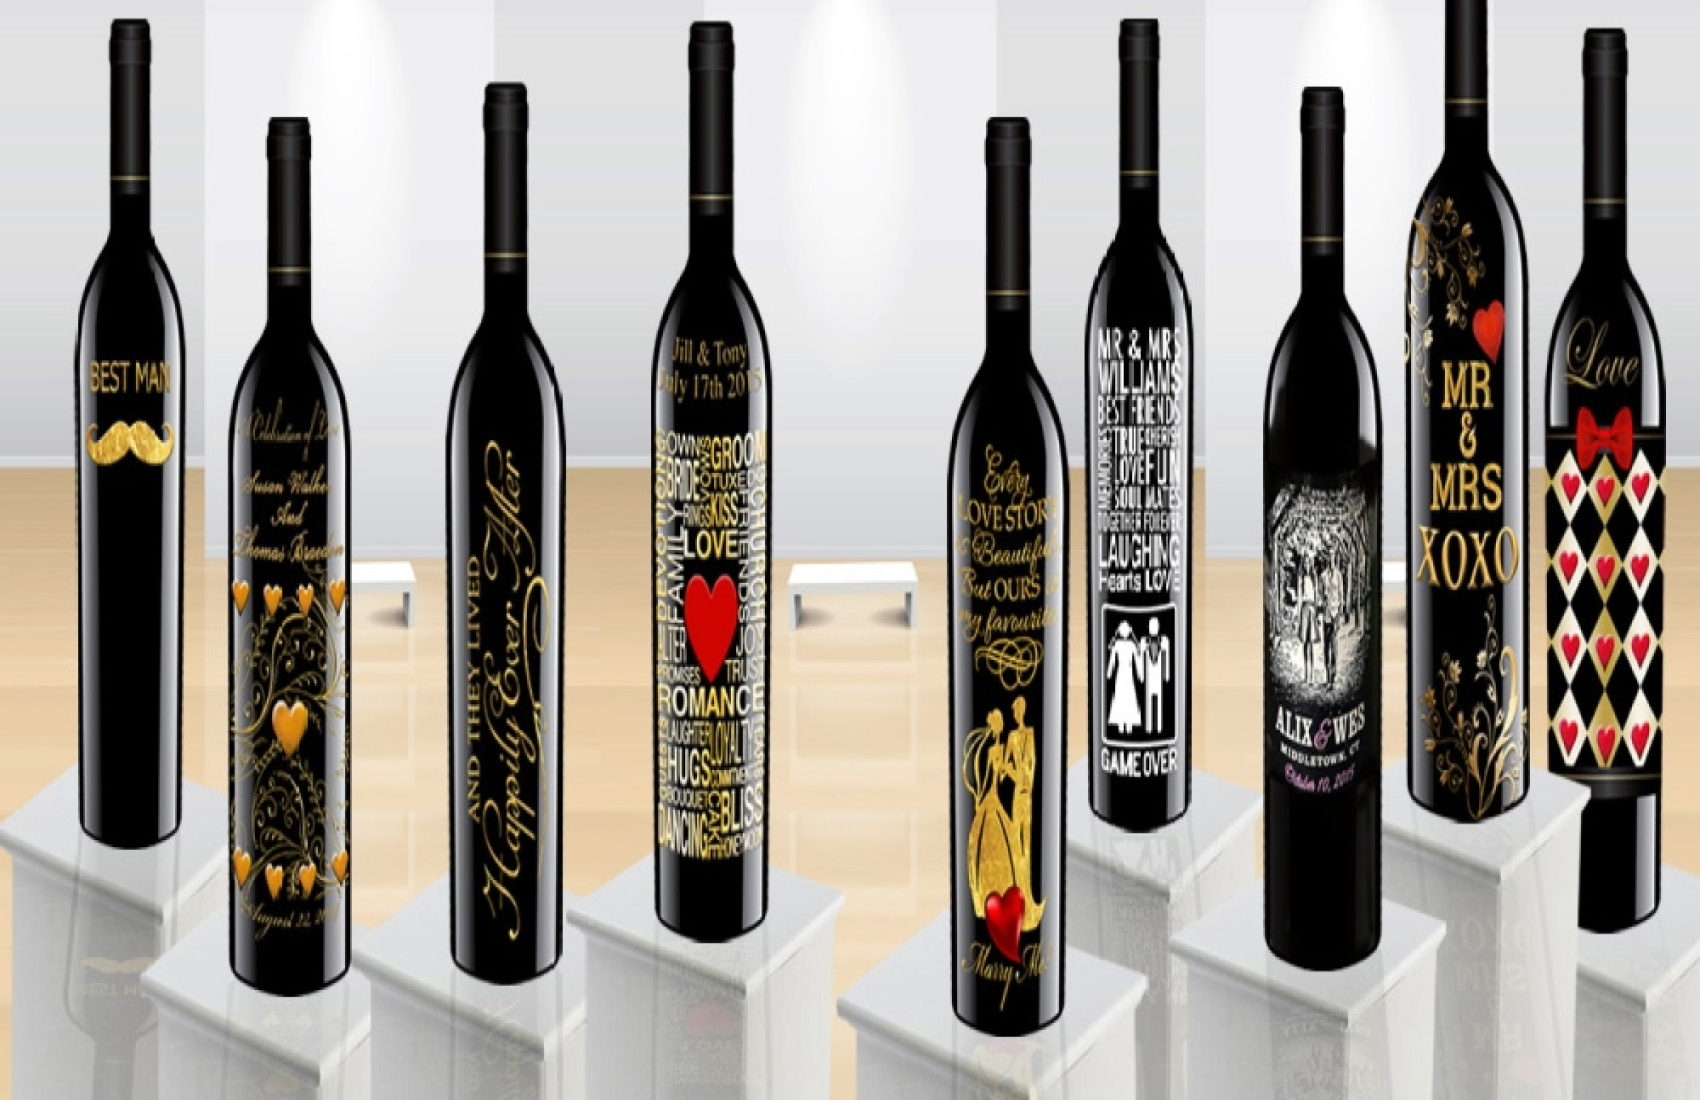wine: (948, 130, 1066, 1041), (1264, 47, 1382, 958), (1538, 17, 1655, 928), (230, 95, 348, 1006), (446, 67, 563, 979), (648, 24, 765, 934), (76, 1, 190, 851)
